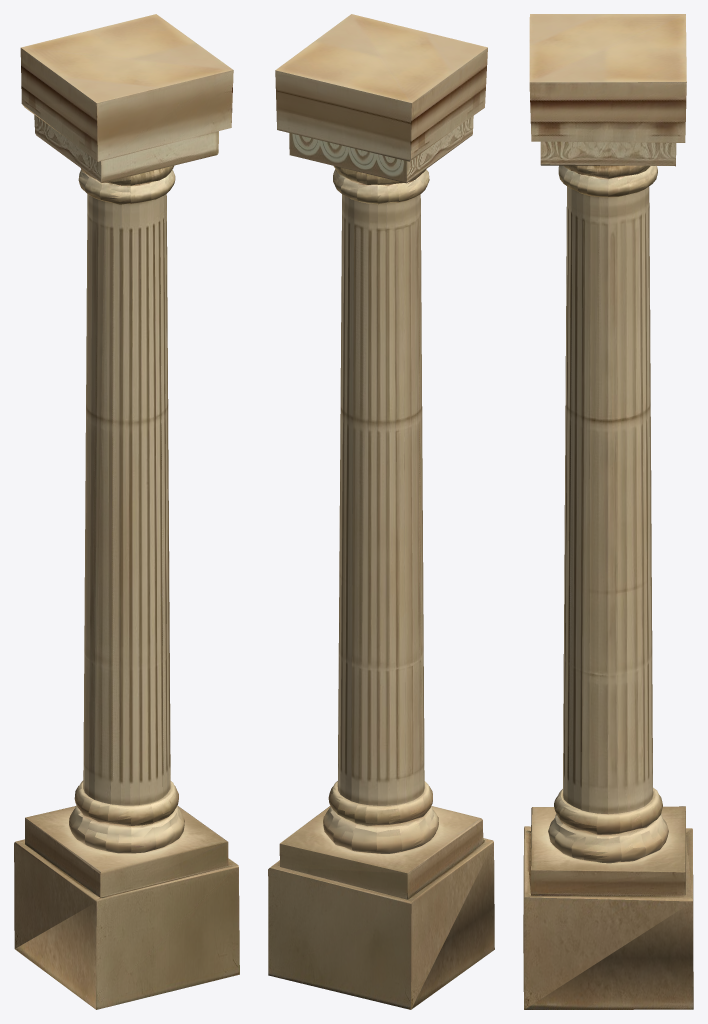
The model's file is column.glb.
The picture shows the model from 3 angles, left to right: view 1: azimuth 30°, elevation 25°; view 2: azimuth 150°, elevation 25°; view 3: azimuth 270°, elevation 25°; orthographic projection. The views are drawn at different scales.
Size of the model in its own units: 0.5 by 3 by 0.5.
1 material, 1 textured.
